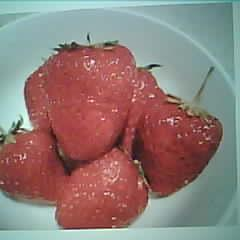straw-ripe: (49, 42, 135, 162), (143, 100, 223, 197)
